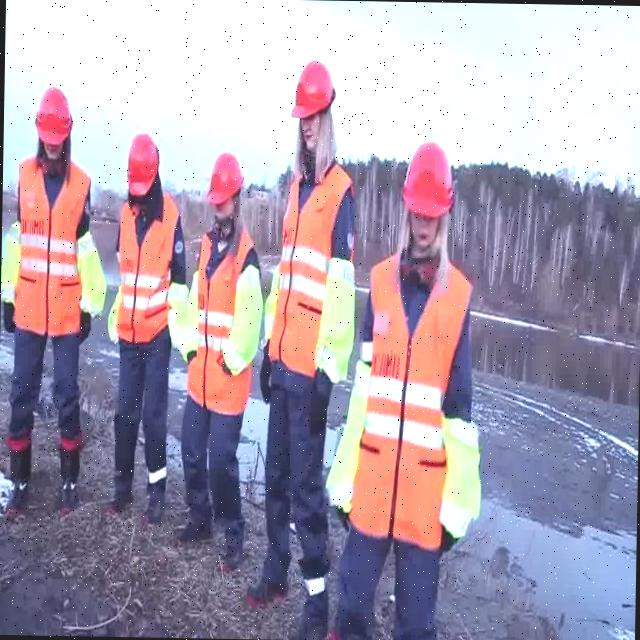helmet: (404, 141, 455, 211), (292, 58, 338, 120), (35, 86, 74, 148), (125, 133, 159, 200), (207, 150, 246, 206)
vest: (365, 245, 472, 548), (267, 161, 354, 380), (17, 156, 92, 334), (184, 230, 254, 412), (116, 190, 180, 344), (330, 352, 370, 517), (442, 413, 486, 547), (324, 252, 356, 385), (228, 268, 264, 372), (80, 220, 106, 322), (0, 208, 23, 298), (262, 264, 280, 342), (167, 280, 187, 348), (187, 264, 200, 356), (108, 291, 120, 346)
